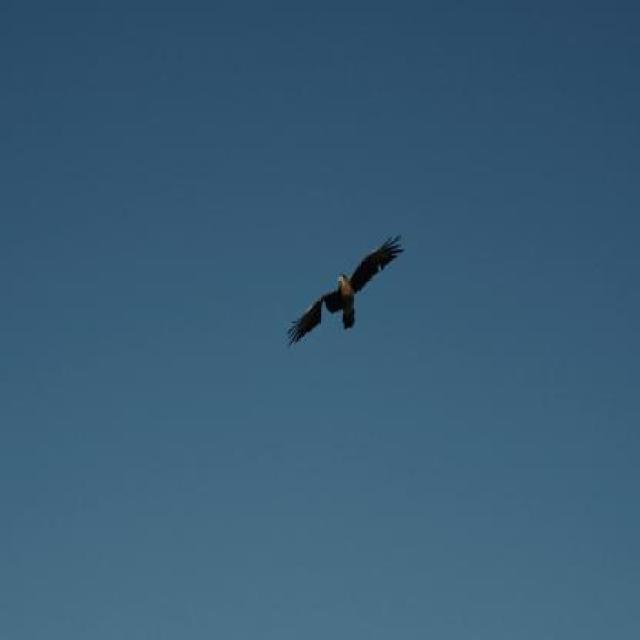bird: (281, 228, 408, 360)
